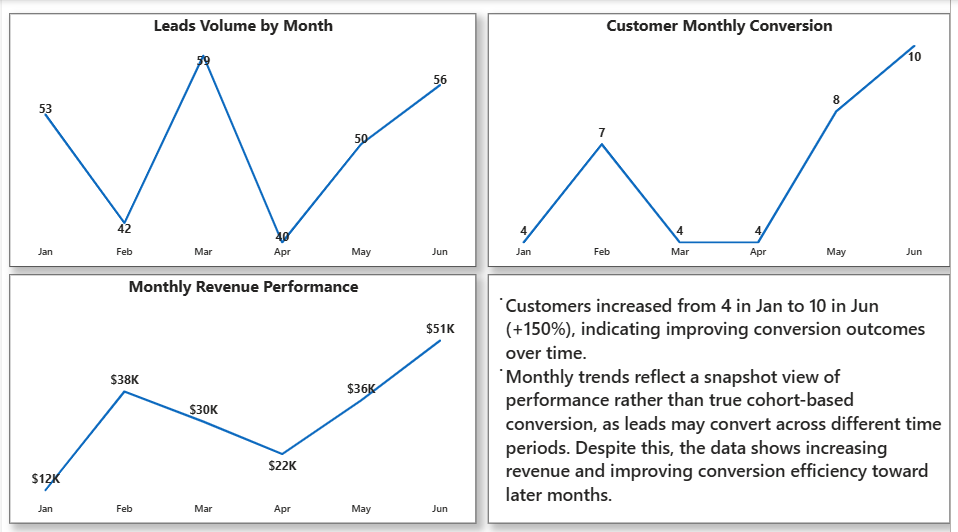

Layout of this report page (visuals, bound fields, positions):
{"tool":"powerbi","page":{"name":"Page 3","canvas":[1280,720],"ordinal":2},"visuals":[{"type":"lineChart","title":"Leads Volume by Month","fields":{"Y":["marketing_data.Total Leads"],"Category":["marketing_data.Month"]},"box":[10.1,18.2,629.9,342.3],"z":0},{"type":"lineChart","title":"Monthly Revenue Performance ","fields":{"Category":["marketing_data.Month"],"Y":["marketing_data.Total Revenue"]},"box":[10.1,370.6,629.9,336.2],"z":1},{"type":"lineChart","title":"Customer Monthly Conversion ","fields":{"Category":["marketing_data.Month"],"Y":["marketing_data.Total Customers"]},"box":[656.2,18.2,623.8,342.3],"z":2},{"type":"textbox","box":[656.2,370.6,623.8,336.2],"z":3}]}

Visuals, with their boxes in screenshot pixels (x1, y1, x2, y2), scaled from the page's 1280x720 canvas onto the 958x532 screenshot:
"Leads Volume by Month" lineChart: {"x1": 8, "y1": 13, "x2": 479, "y2": 266}
"Monthly Revenue Performance " lineChart: {"x1": 8, "y1": 274, "x2": 479, "y2": 522}
"Customer Monthly Conversion " lineChart: {"x1": 491, "y1": 13, "x2": 957, "y2": 266}
textbox: {"x1": 491, "y1": 274, "x2": 957, "y2": 522}
